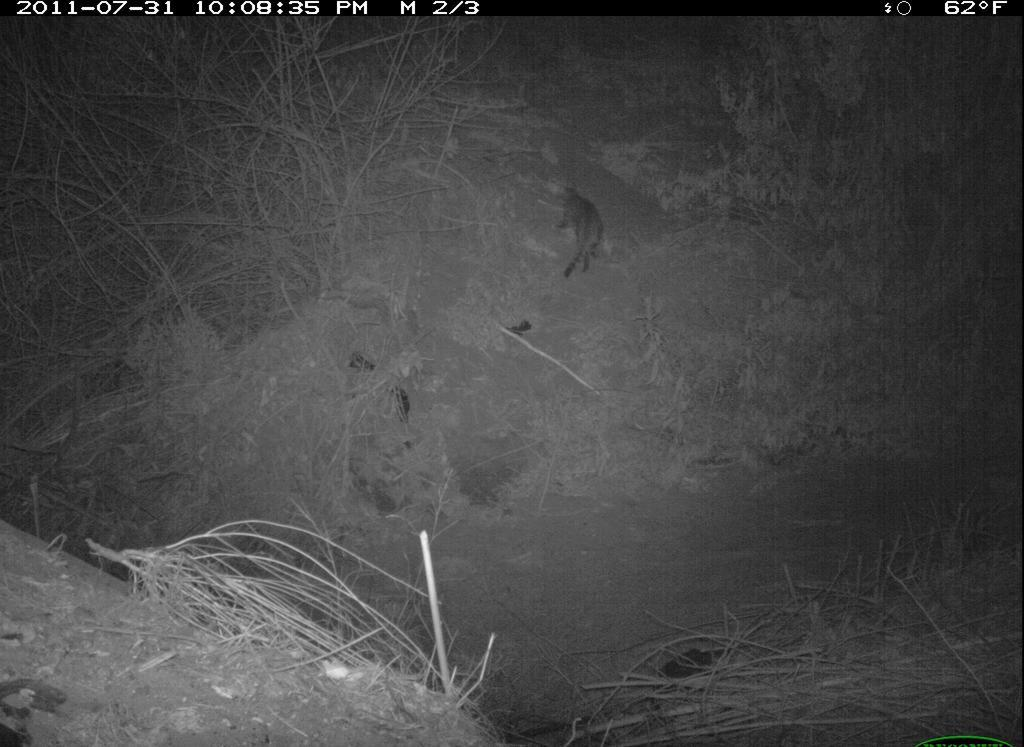cat: (545, 176, 619, 286)
